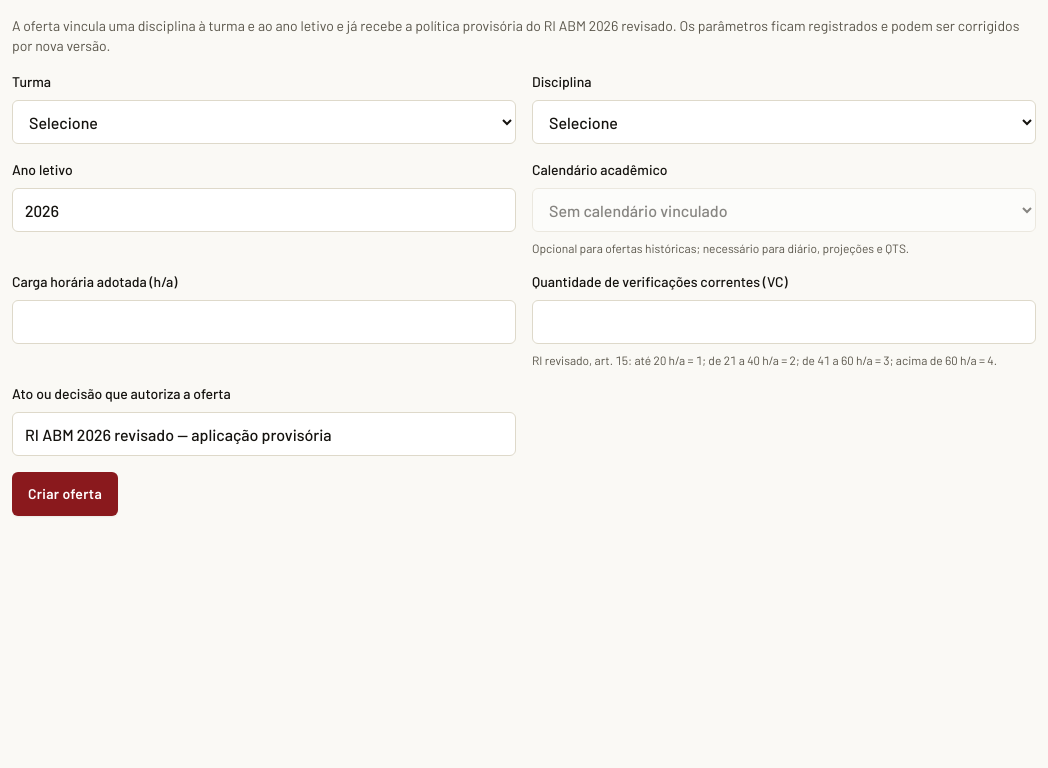
Gestão acadêmica: decisões e lançamento › usa a carga da Portaria 550 anexada para Legislação no CFO I de 2026
This screenshot has width=1048, height=768.
Select "CFO I · Legislação Bombeiro Militar" in the dropdown labelled "Disciplina" at [784, 122], box left=532, top=100, right=1036, bottom=144
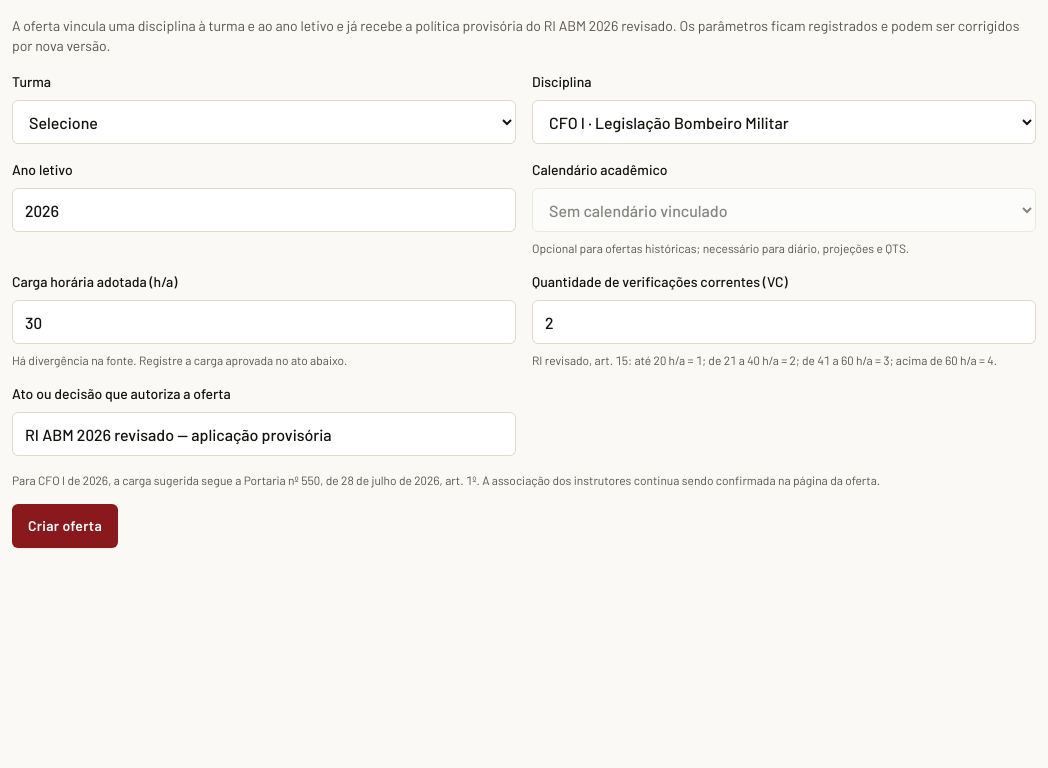
expect the number field labelled "Carga horária adotada" holds "30": met, box left=12, top=300, right=516, bottom=344
expect the number field labelled "Quantidade de verificações" holds "2": met, box left=532, top=300, right=1036, bottom=344
expect the text "Portaria nº 550" is shown: met, box left=244, top=473, right=476, bottom=487
